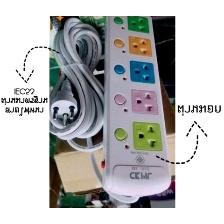three_eye_plug: (94, 10, 173, 204)
